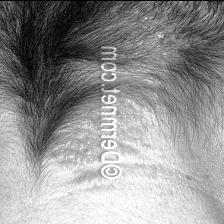Non-Cancerous Skin Condition: (60, 92, 150, 188)
